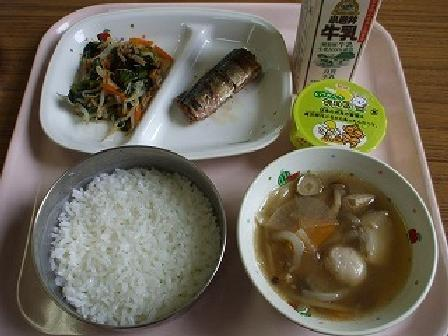Fish: (183, 45, 260, 125)
Milk: (288, 1, 382, 84)
Rice: (45, 157, 224, 324)
Salad: (70, 33, 166, 122)
Soups: (253, 163, 425, 314)
